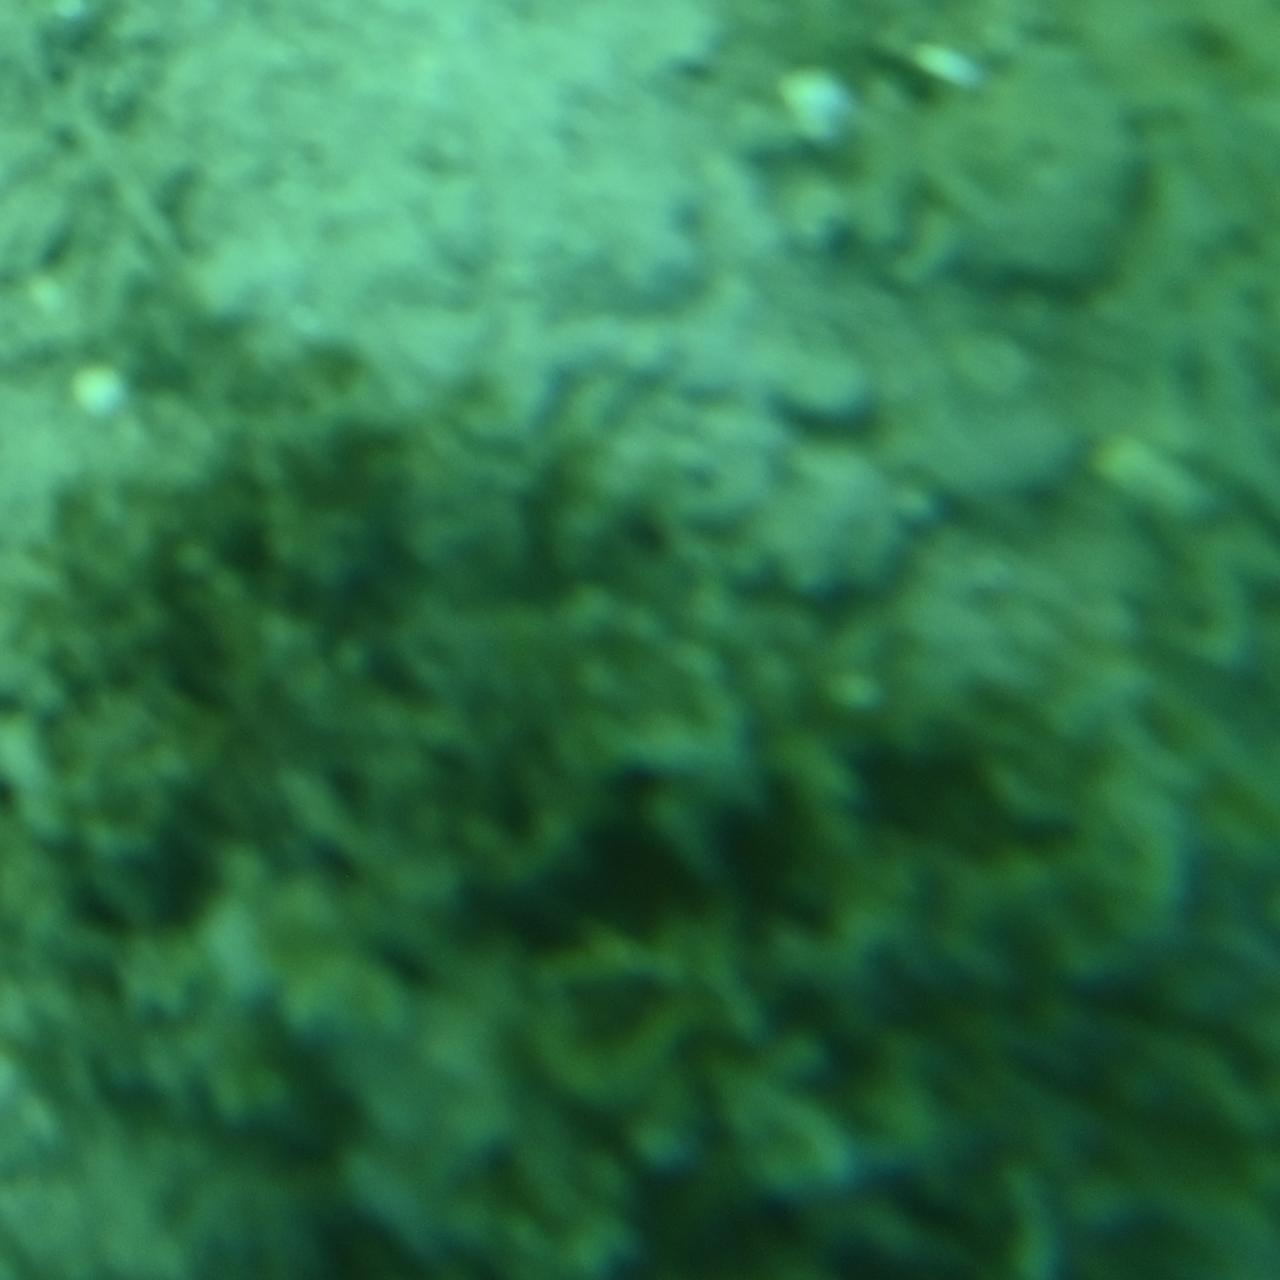Phaeophyceae -cfr Cystoseira-: (0, 340, 1280, 1276)
